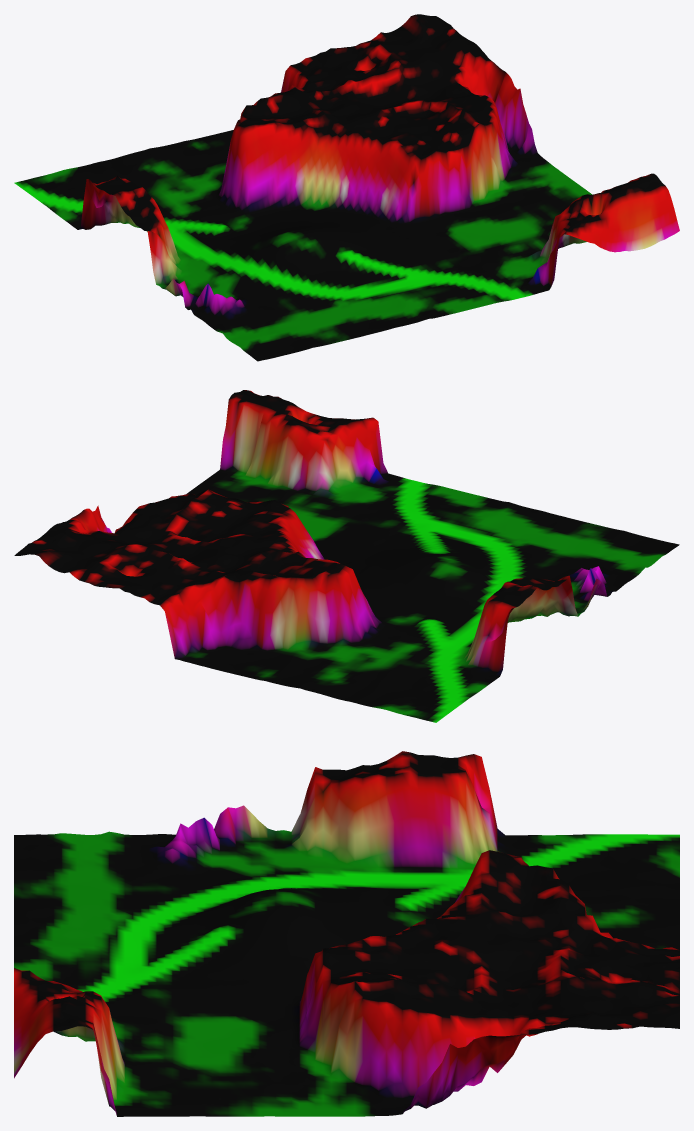
Rendered from SM_AlUla_Terrain_1_1.fbx.
3 views of the same model, one above another, from view 1: azimuth 30°, elevation 25°; view 2: azimuth 150°, elevation 25°; view 3: azimuth 270°, elevation 25° (orthographic). The views are drawn at different scales.
Visible parts, largest first — view 1: SM_AlUla_Terrain_1_1; view 2: SM_AlUla_Terrain_1_1; view 3: SM_AlUla_Terrain_1_1.
Part boxes in pixels (x1,y1,x2,y2): SM_AlUla_Terrain_1_1: (14, 14, 679, 361); SM_AlUla_Terrain_1_1: (14, 390, 679, 722); SM_AlUla_Terrain_1_1: (14, 751, 679, 1116).
Size of the model in its own units: 50400 by 8120 by 50400.
